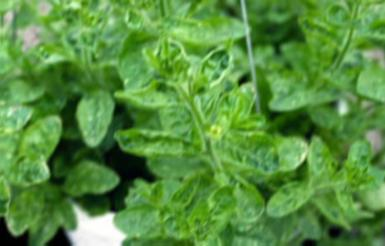Tomato leaf mosaic virus: (207, 125, 285, 175), (108, 130, 193, 160), (263, 179, 319, 222), (0, 157, 50, 187), (149, 218, 191, 240)
